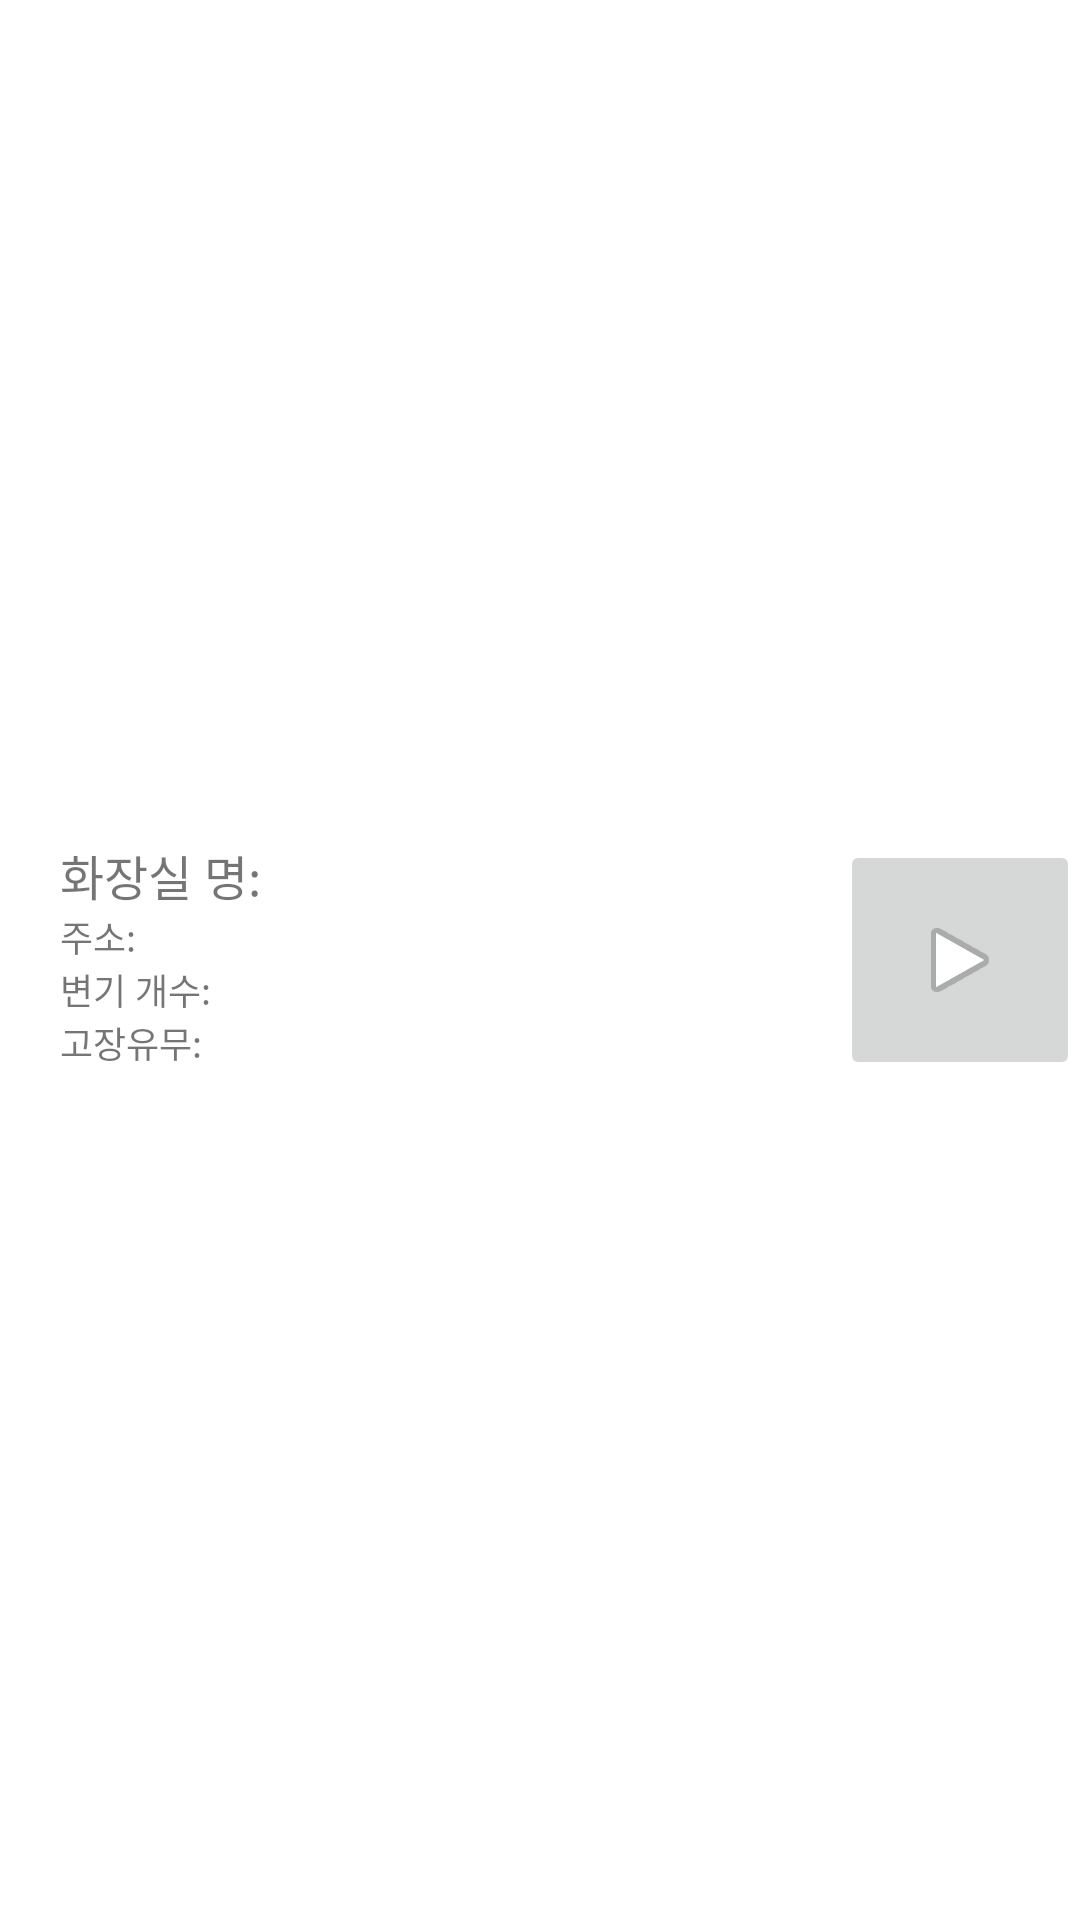

Screen size 1080x1920. Icon name, then its center in pixels as [x,y]:
play: [960,960]
